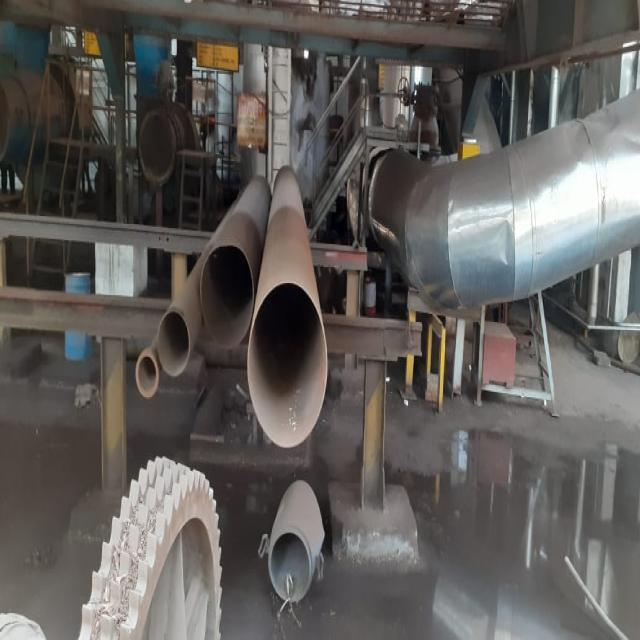pipe: (265, 279, 327, 456), (199, 239, 254, 346), (159, 311, 194, 378), (132, 348, 158, 410)
